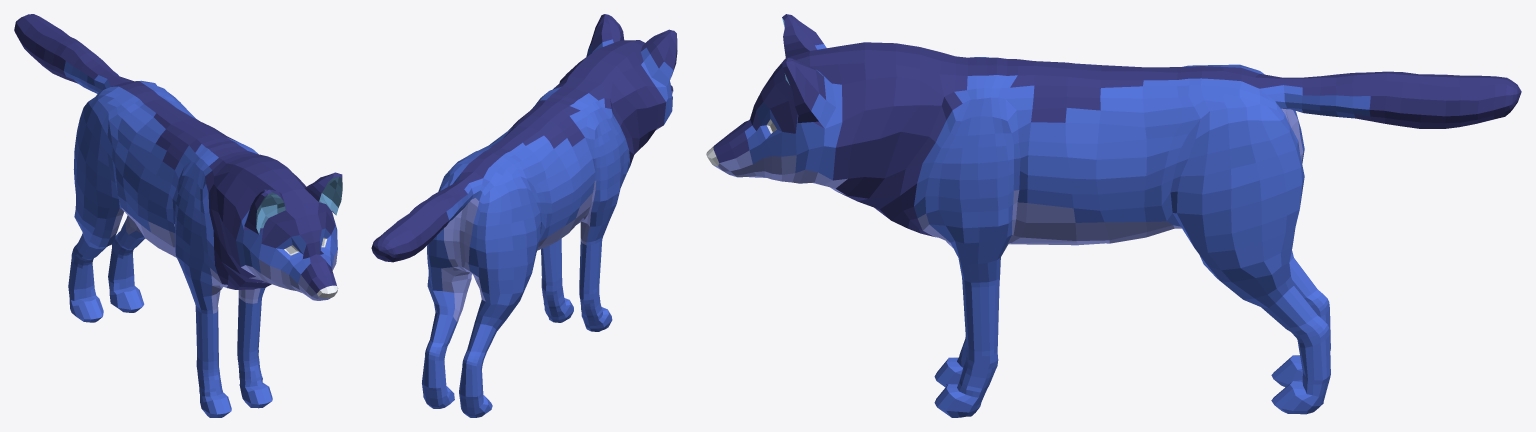
File: Spirit wolf 2 character statisch.fbx
The picture shows the model from 3 angles, left to right: view 1: azimuth 30°, elevation 25°; view 2: azimuth 150°, elevation 25°; view 3: azimuth 270°, elevation 25°; orthographic projection. The views are drawn at different scales.
Visible parts, largest first — view 1: staart en poten; view 2: staart en poten; view 3: staart en poten.
Boxes of the visible parts, bbox=[...] form: staart en poten: bbox=[14, 14, 342, 417]; staart en poten: bbox=[371, 14, 677, 417]; staart en poten: bbox=[706, 14, 1521, 417].
Bounding box in the file's own units: 113 × 305 × 622.
